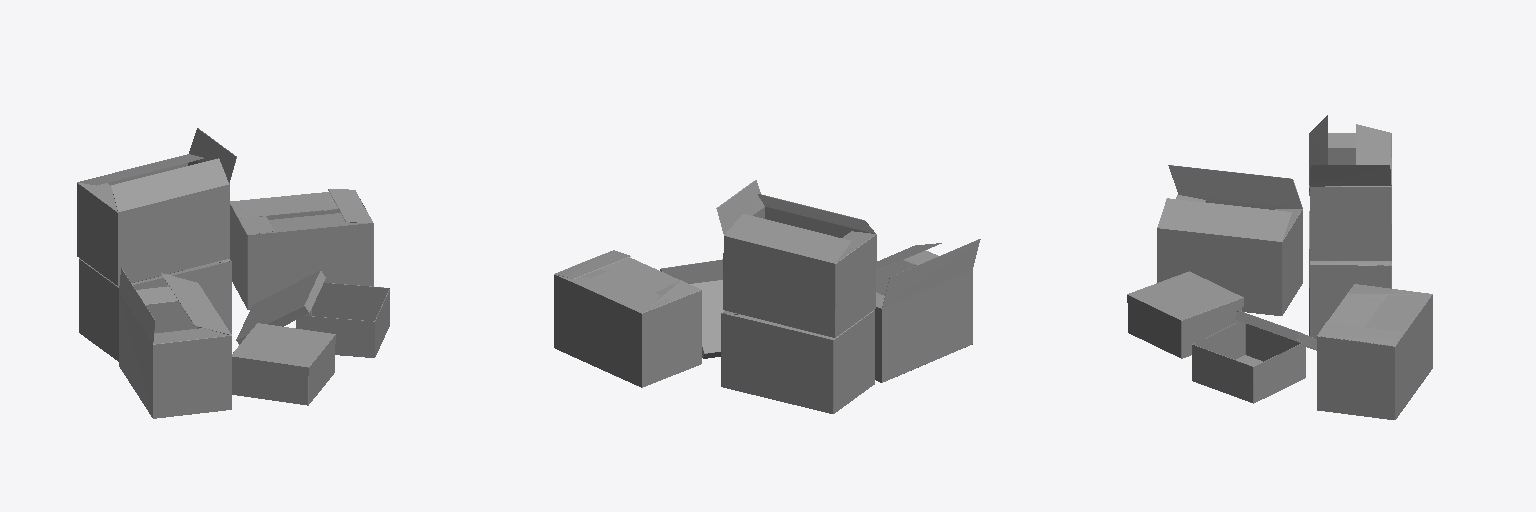
Rendered from cardboardboxes.obj.
The picture shows the model from 3 angles: view 1: azimuth 30°, elevation 25°; view 2: azimuth 150°, elevation 25°; view 3: azimuth 270°, elevation 25°; orthographic projection.
Visible parts, largest first — view 1: cardboardboxes.005_cardboardboxes_006_0.005, cardboardboxes.007_cardboardboxes_006_0.007, cardboardboxes_cardboardboxes_006_0, cardboardboxes.002_cardboardboxes_006_0.002, cardboardboxes.006_cardboardboxes_006_0.006, cardboardboxes.004_cardboardboxes_006_0.004, cardboardboxes.003_cardboardboxes_006_0.003, cardboardboxes.001_cardboardboxes_006_0.001; view 2: cardboardboxes.005_cardboardboxes_006_0.005, cardboardboxes_cardboardboxes_006_0, cardboardboxes.002_cardboardboxes_006_0.002, cardboardboxes.007_cardboardboxes_006_0.007, cardboardboxes.001_cardboardboxes_006_0.001, cardboardboxes.006_cardboardboxes_006_0.006; view 3: cardboardboxes.007_cardboardboxes_006_0.007, cardboardboxes_cardboardboxes_006_0, cardboardboxes.005_cardboardboxes_006_0.005, cardboardboxes.006_cardboardboxes_006_0.006, cardboardboxes.004_cardboardboxes_006_0.004, cardboardboxes.002_cardboardboxes_006_0.002, cardboardboxes.003_cardboardboxes_006_0.003, cardboardboxes.001_cardboardboxes_006_0.001.
Part boxes in pixels (x1,y1,x2,y2): cardboardboxes.005_cardboardboxes_006_0.005: (77, 128, 236, 286); cardboardboxes.007_cardboardboxes_006_0.007: (119, 268, 231, 418); cardboardboxes_cardboardboxes_006_0: (230, 189, 373, 309); cardboardboxes.002_cardboardboxes_006_0.002: (79, 258, 231, 361); cardboardboxes.006_cardboardboxes_006_0.006: (296, 283, 389, 357); cardboardboxes.004_cardboardboxes_006_0.004: (232, 323, 335, 375); cardboardboxes.003_cardboardboxes_006_0.003: (232, 345, 334, 405); cardboardboxes.001_cardboardboxes_006_0.001: (236, 270, 325, 344); cardboardboxes.005_cardboardboxes_006_0.005: (716, 180, 876, 337); cardboardboxes_cardboardboxes_006_0: (554, 250, 701, 387); cardboardboxes.002_cardboardboxes_006_0.002: (721, 310, 874, 413); cardboardboxes.007_cardboardboxes_006_0.007: (875, 239, 980, 382); cardboardboxes.001_cardboardboxes_006_0.001: (690, 280, 724, 358); cardboardboxes.006_cardboardboxes_006_0.006: (660, 259, 722, 283); cardboardboxes.007_cardboardboxes_006_0.007: (1157, 165, 1302, 315); cardboardboxes_cardboardboxes_006_0: (1317, 284, 1432, 419); cardboardboxes.005_cardboardboxes_006_0.005: (1309, 115, 1391, 260); cardboardboxes.006_cardboardboxes_006_0.006: (1192, 321, 1305, 403); cardboardboxes.004_cardboardboxes_006_0.004: (1127, 271, 1243, 328); cardboardboxes.002_cardboardboxes_006_0.002: (1309, 211, 1391, 338); cardboardboxes.003_cardboardboxes_006_0.003: (1128, 304, 1242, 358); cardboardboxes.001_cardboardboxes_006_0.001: (1235, 310, 1316, 350).
Bounding box in the file's own units: 1.51 × 0.8186 × 1.28.